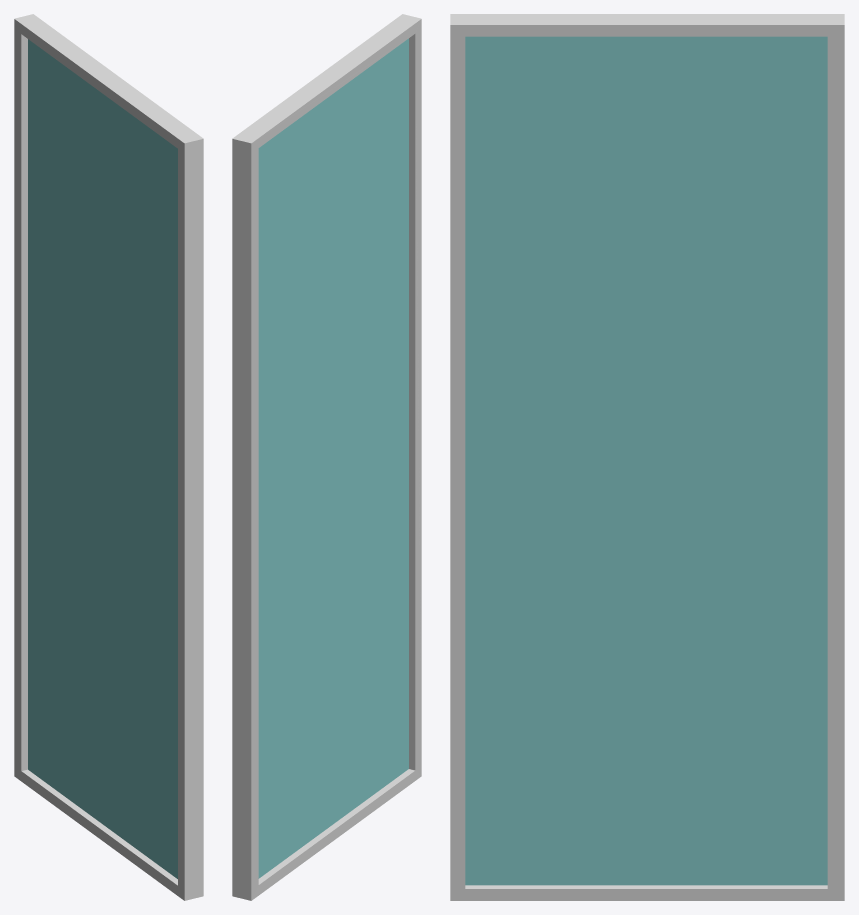
The model's file is WindowInside1.fbx.
3 renders of one model, left to right at view 1: azimuth 30°, elevation 25°; view 2: azimuth 150°, elevation 25°; view 3: azimuth 270°, elevation 25°, orthographic. The views are drawn at different scales.
Visible parts, largest first — view 1: Box330, WindowRight_007; view 2: Box330, WindowRight_007; view 3: Box330, WindowRight_007.
Boxes of the visible parts, <box> form: Box330: <box>28,39,177,878</box>; WindowRight_007: <box>14,14,203,900</box>; Box330: <box>258,38,408,878</box>; WindowRight_007: <box>232,14,421,900</box>; Box330: <box>465,36,827,885</box>; WindowRight_007: <box>450,14,844,900</box>.
Size of the model in its own units: 2.93 by 110 by 44.78.
